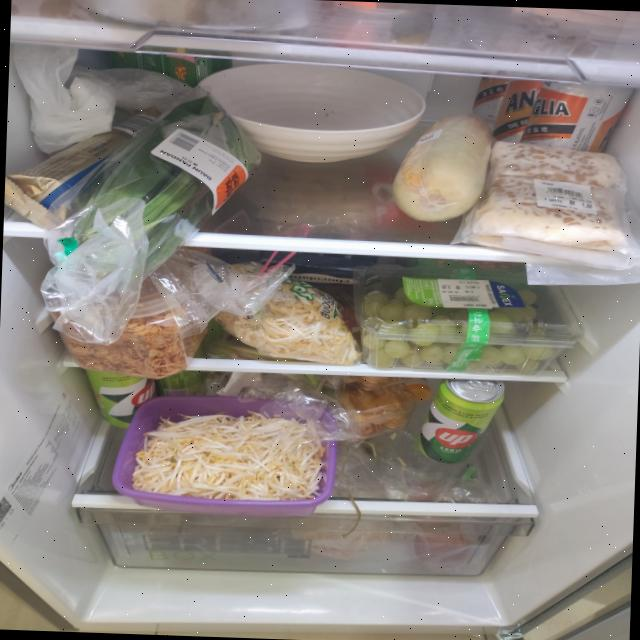bean_sprouts: (131, 405, 327, 503), (212, 260, 366, 366)
corn: (391, 110, 494, 223)
grape: (358, 282, 554, 373)
leafy_greens: (70, 90, 264, 276)
tempeh: (470, 138, 632, 252)
